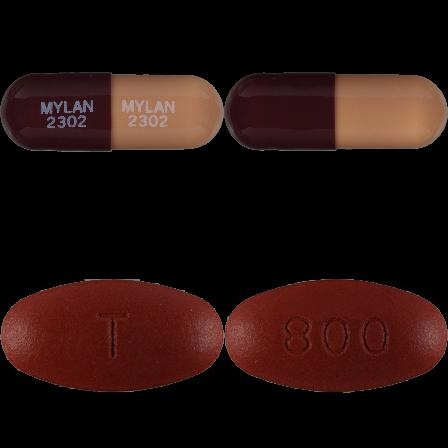52125-597: (0, 0, 224, 224)
